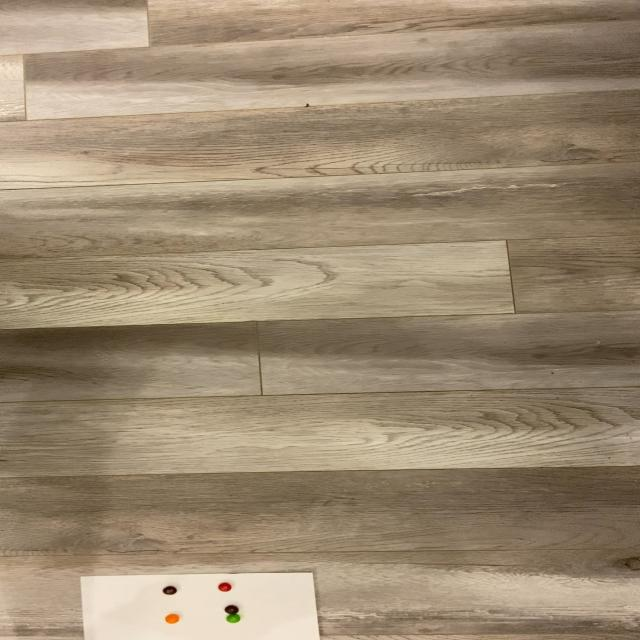smartie: (163, 615, 179, 625), (223, 606, 238, 616), (217, 583, 231, 593), (161, 587, 176, 596), (225, 615, 240, 624)
